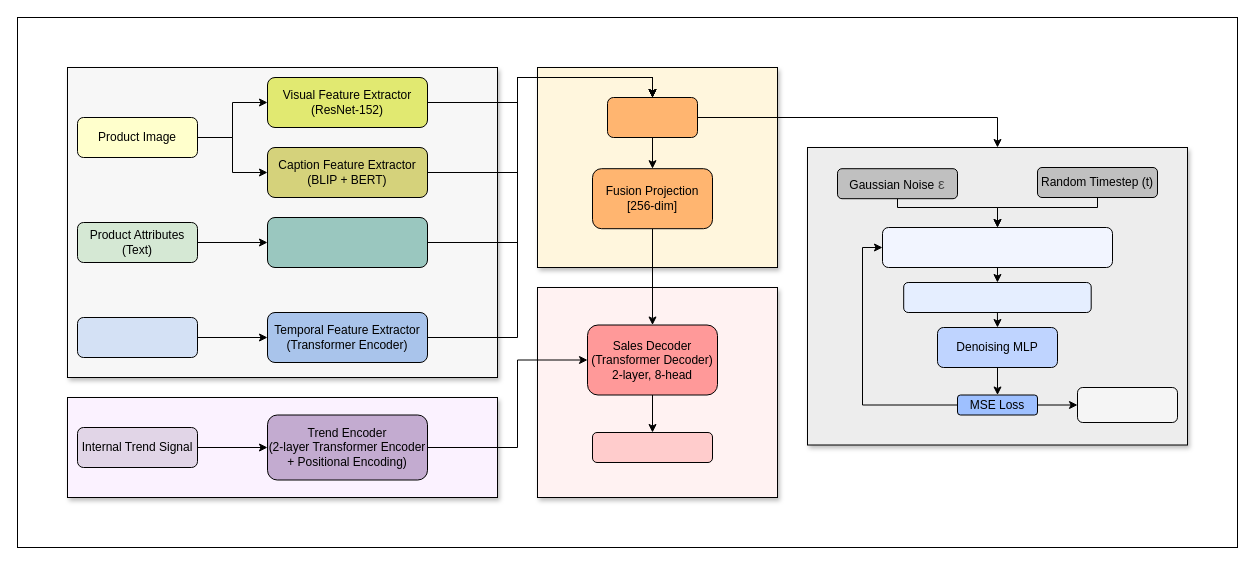
This 1255x565 diagram has some shape labels left out. The centre of each missing label's shape, as x and y in pixels:
"Concatenation (x_t | t) [49-dim]" belongs at point 997,297.
"Concatenation [48-dim]" belongs at point 652,117.
"Demand Forecast" belongs at point 652,447.
"Forward Diffusion x_t (Noisy Target Vector [48-dim])" belongs at point 997,247.
"Temporal Context" belongs at point 137,337.
"Text Feature Extractor (DistilBERT)" belongs at point 347,242.
"x0.1 -> added to the training loss" belongs at point 1127,404.
